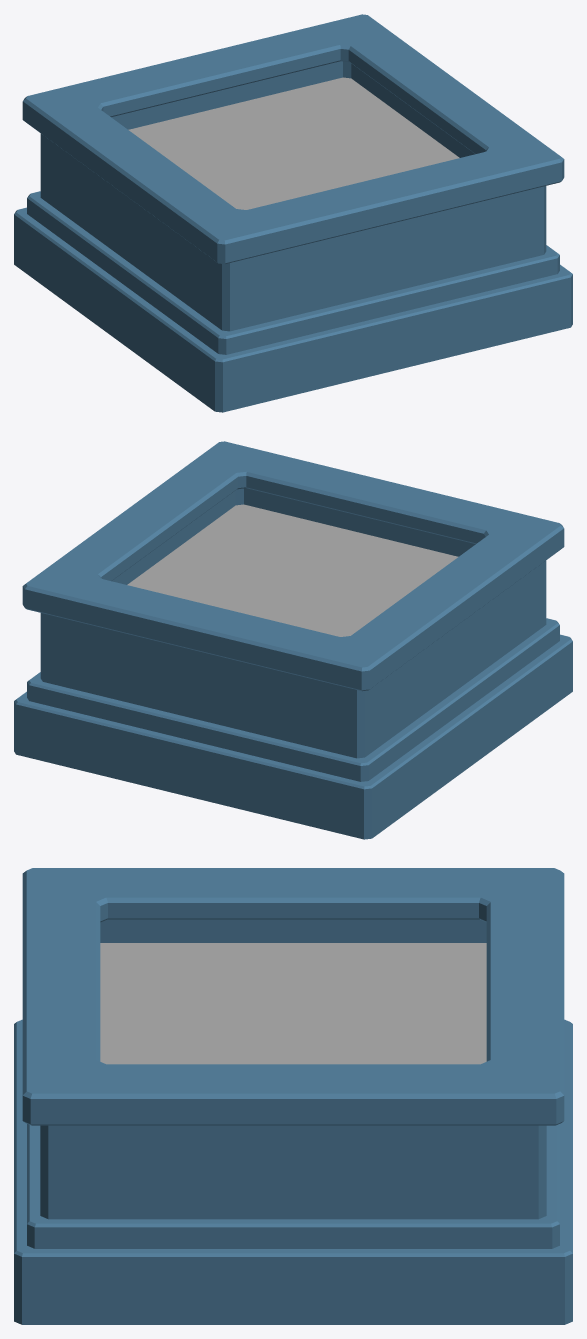
File: Small_Fontain.fbx
3 views of the same model, one above another, from view 1: azimuth 30°, elevation 25°; view 2: azimuth 150°, elevation 25°; view 3: azimuth 270°, elevation 25° (orthographic). The views are drawn at different scales.
Visible parts, largest first — view 1: Small_Fontain, Water; view 2: Small_Fontain, Water; view 3: Small_Fontain, Water.
Part boxes in pixels (bbox=[...]): Small_Fontain: bbox=[14, 14, 572, 412]; Water: bbox=[128, 77, 459, 209]; Small_Fontain: bbox=[14, 441, 572, 839]; Water: bbox=[127, 504, 458, 636]; Small_Fontain: bbox=[14, 868, 572, 1324]; Water: bbox=[100, 943, 486, 1064].
Size of the model in its own units: 1.59 by 0.7074 by 1.59.
